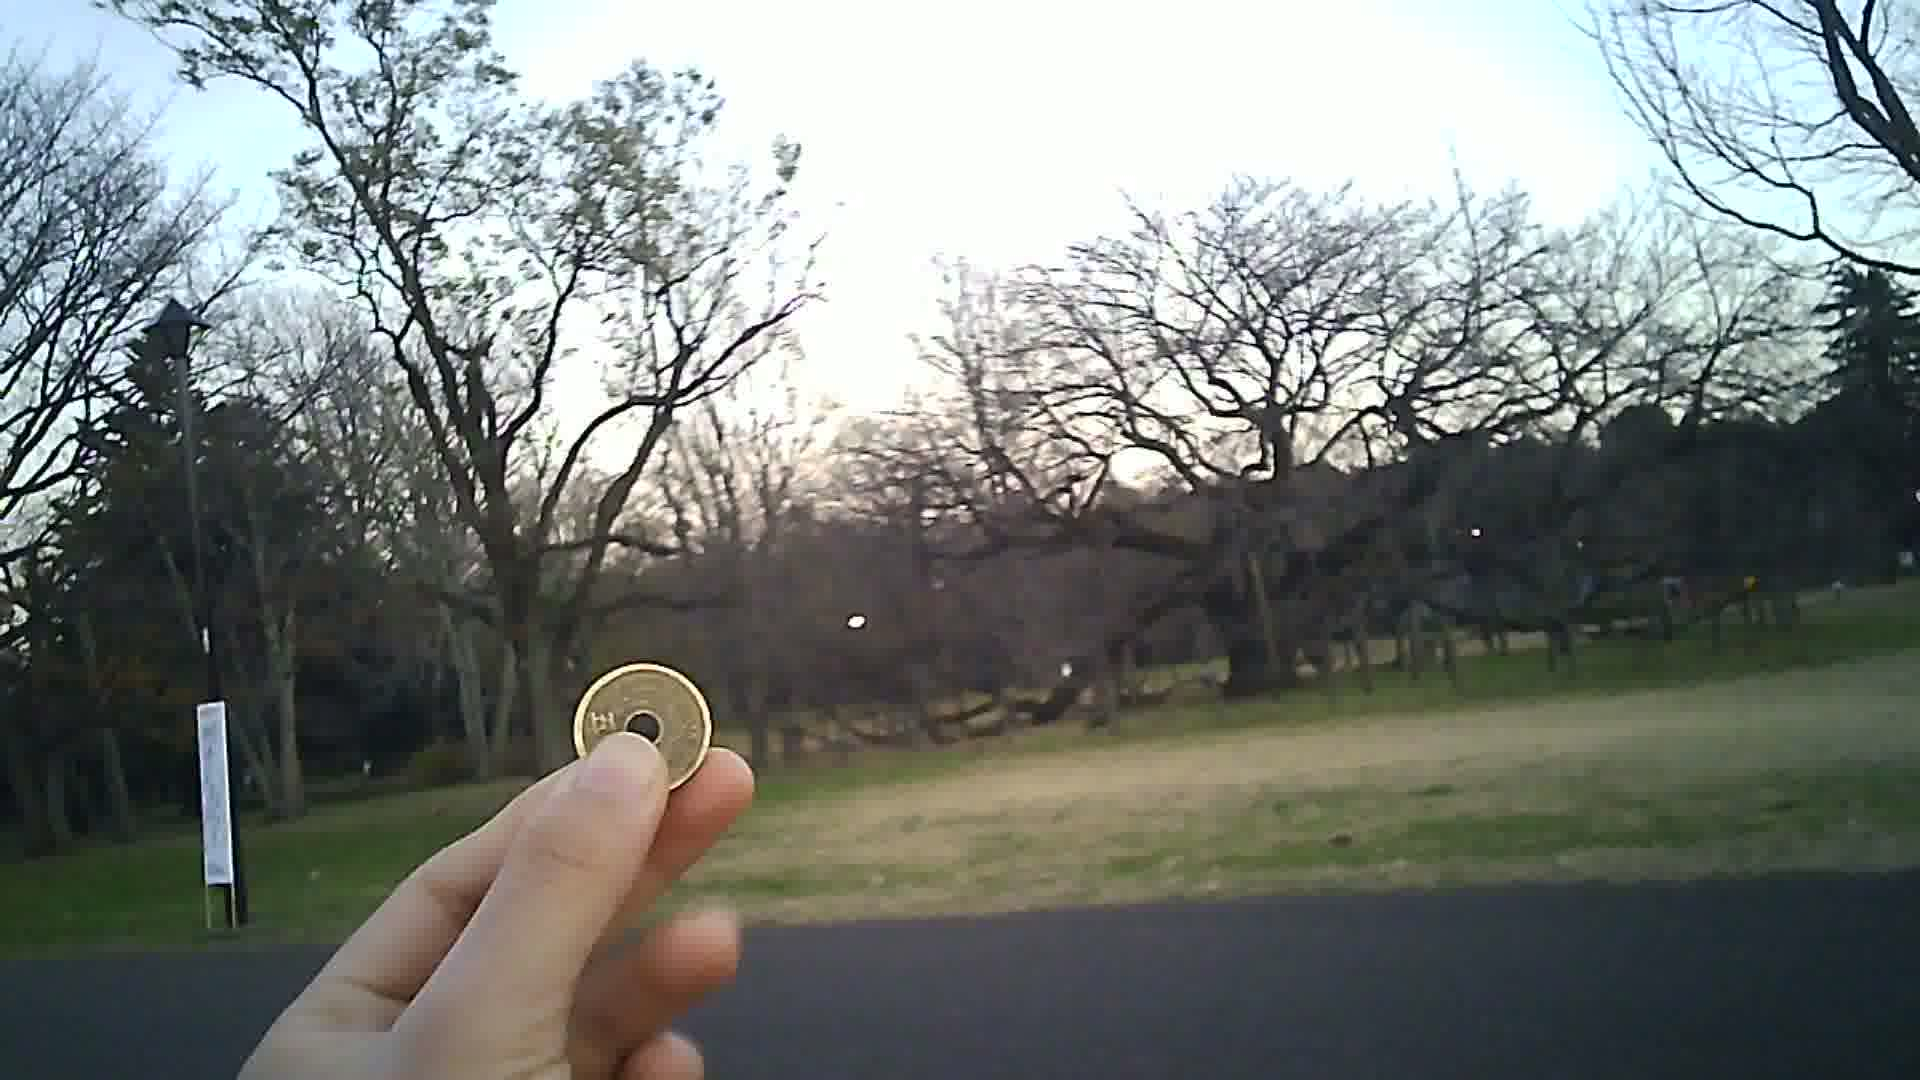5 Yen: (564, 653, 717, 798)
